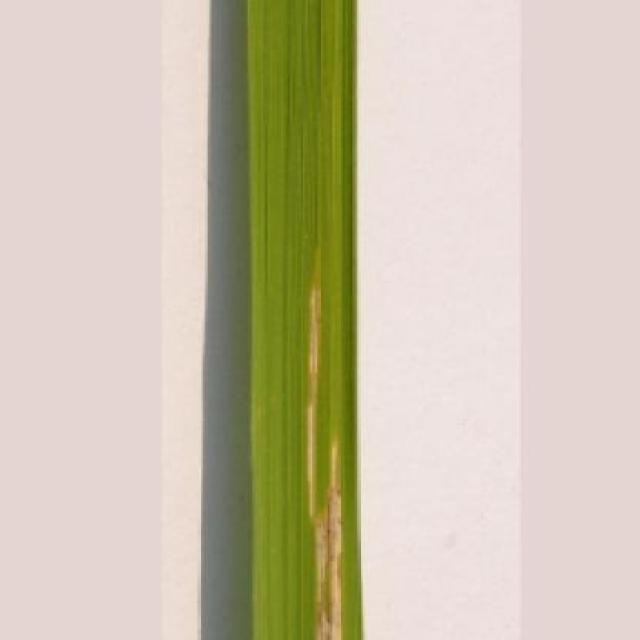Brown_Spot: (241, 0, 362, 640)
